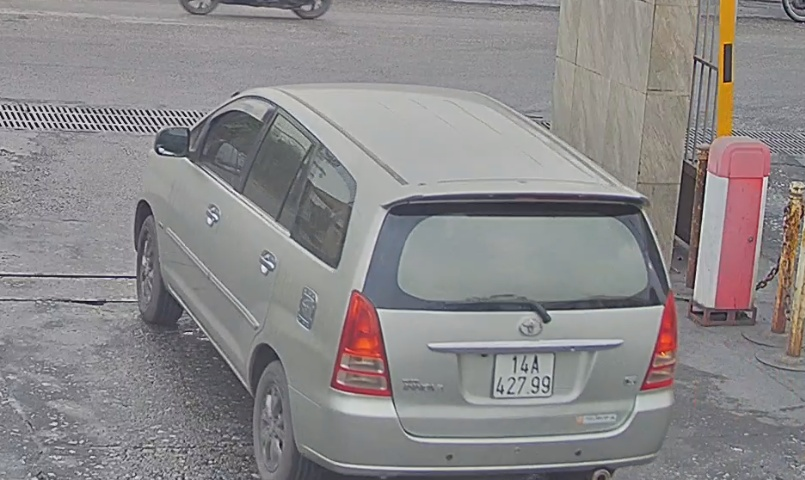vehicle plate: (483, 346, 559, 404)
